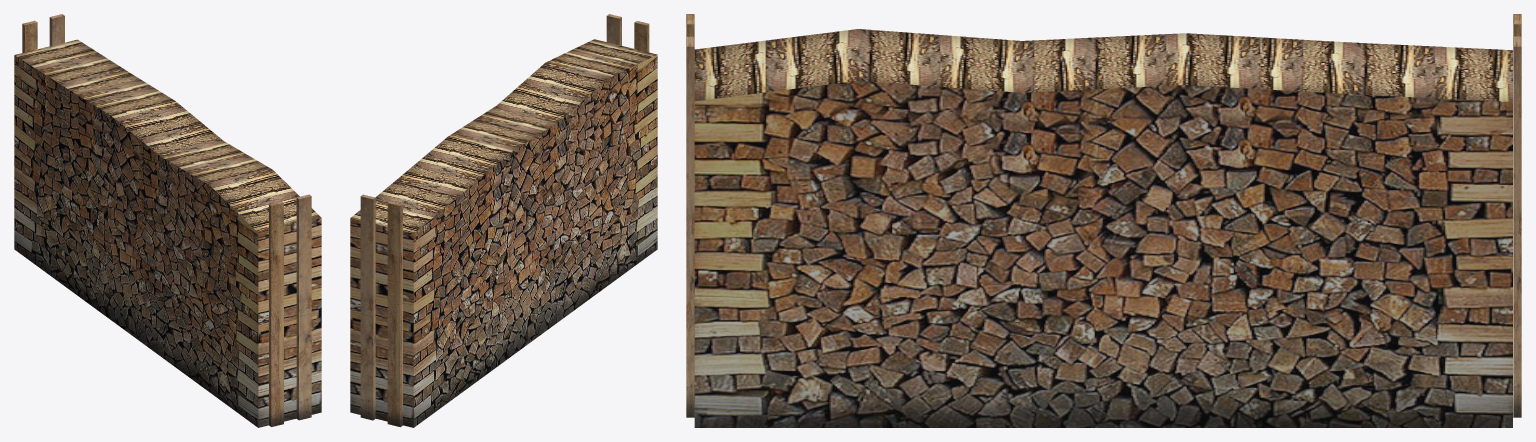
Rendered from sibir_polennica.FBX.
3 views of the same model, side by side, from view 1: azimuth 30°, elevation 25°; view 2: azimuth 150°, elevation 25°; view 3: azimuth 270°, elevation 25° (orthographic). The views are drawn at different scales.
Parts seen in each view (by area): view 1: sibir_polennica; view 2: sibir_polennica; view 3: sibir_polennica.
Boxes of the visible parts, x1,y1,x2,y2 form: sibir_polennica: (14,14,321,427); sibir_polennica: (350,14,657,427); sibir_polennica: (686,14,1521,427).
Bounding box in the file's own units: 60 × 408 × 200.
